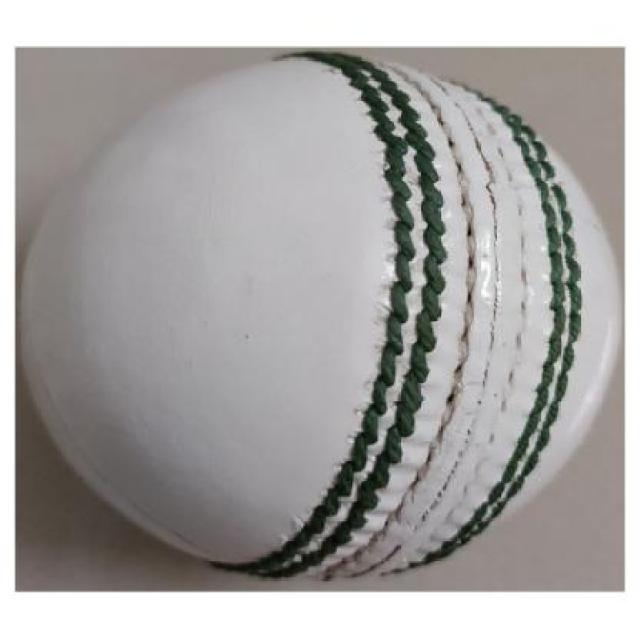ball: (16, 43, 622, 590)
